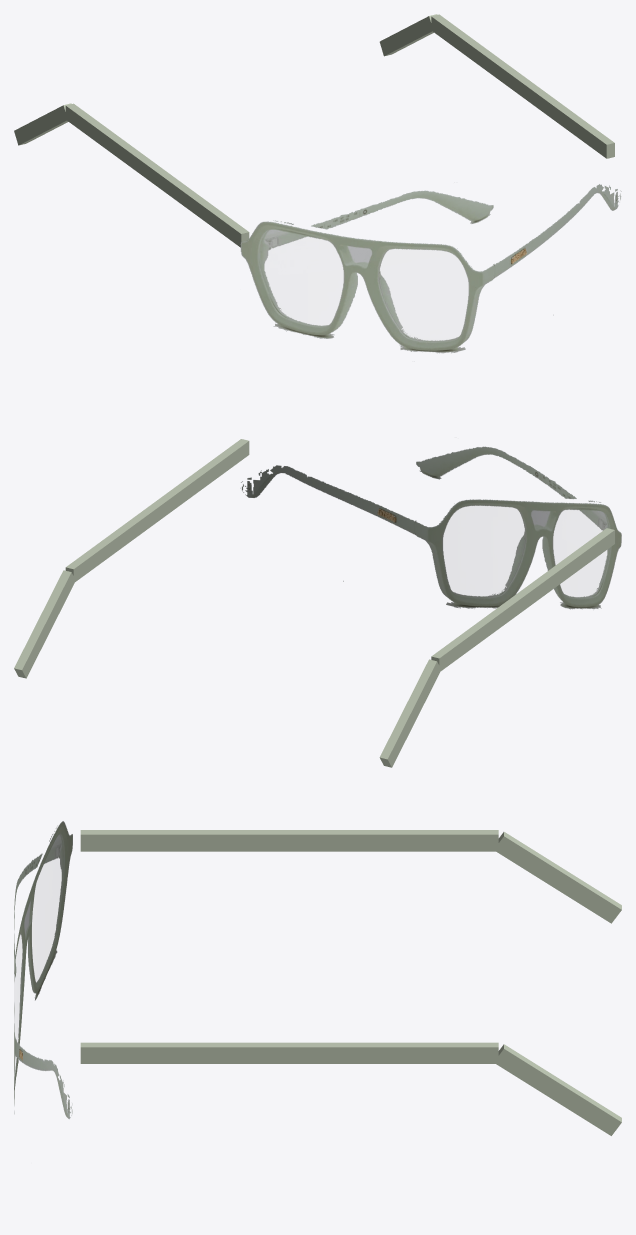
3 views of the same model, one above another, from view 1: azimuth 30°, elevation 25°; view 2: azimuth 150°, elevation 25°; view 3: azimuth 270°, elevation 25° (orthographic). The views are drawn at different scales.
Visible parts, largest first — view 1: anteojo; view 2: anteojo; view 3: anteojo.
Part boxes in pixels (x1,y1,x2,y2): anteojo: (14,14,621,353); anteojo: (14,439,621,767); anteojo: (14,821,621,1135).
Bounding box in the file's own units: 0.142 × 0.0605 × 0.1644.
Materials: 2 (1 with a texture image).
